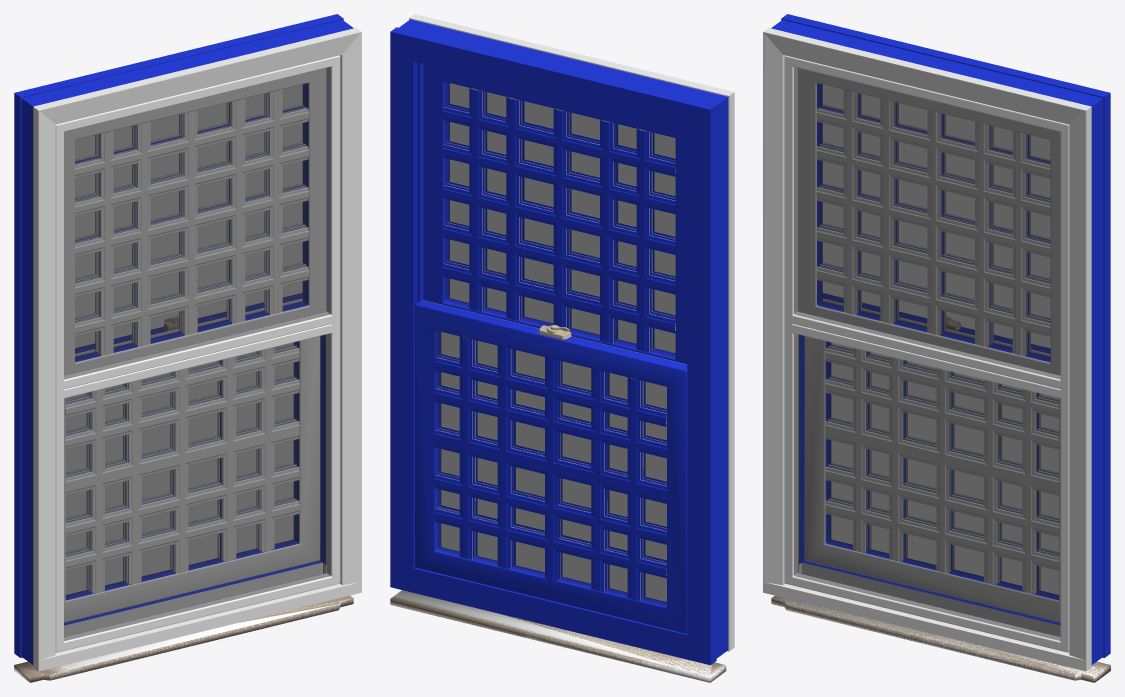
File: Lifestyle1.glb
3 views of the same model, side by side, from view 1: azimuth 30°, elevation 25°; view 2: azimuth 150°, elevation 25°; view 3: azimuth 330°, elevation 25° (orthographic).
Parts seen in each view (by area): view 1: frame3_full_glass, frame3_half_up_glass, frame3_half_down_glass, window1, frame1_glass, frame2_glass, frame1, frame2, frame3_full, sdl3_up, sdl4_up, sdl3_down (+15 smaller); view 2: window1, frame1_glass, frame2, frame2_glass, frame1, sdl3_down, sdl3_up, sdl4_up, sdl4_down, sdl5_down, sdl2_up, sdl5_up (+12 smaller); view 3: frame3_full_glass, frame3_half_up_glass, frame3_half_down_glass, window1, frame1_glass, frame2_glass, frame1, frame2, frame3_full, sdl4_up, frame3_half_up, sdl4_down (+14 smaller).
Part boxes in pixels (x1,y1,x2,y2): frame3_full_glass: (64, 67, 329, 640); frame3_half_up_glass: (64, 67, 330, 379); frame3_half_down_glass: (64, 334, 330, 640); window1: (14, 14, 361, 671); frame1_glass: (75, 84, 304, 358); frame2_glass: (66, 342, 295, 596); frame1: (64, 68, 326, 375); frame2: (64, 293, 320, 622); frame3_full: (55, 57, 340, 652); sdl3_up: (75, 99, 308, 346); sdl4_up: (75, 89, 308, 354); sdl3_down: (65, 358, 299, 584); window1: (390, 14, 734, 665); frame1_glass: (445, 82, 675, 356); frame2: (415, 300, 687, 633); frame2_glass: (436, 331, 666, 605); frame1: (423, 64, 687, 364); sdl3_down: (434, 346, 667, 591); sdl3_up: (443, 97, 675, 343); sdl4_up: (442, 88, 675, 351); sdl4_down: (433, 336, 666, 599); sdl5_down: (433, 337, 666, 600); sdl2_up: (442, 97, 675, 342); sdl5_up: (442, 88, 675, 352); frame3_full_glass: (794, 67, 1059, 640); frame3_half_up_glass: (794, 67, 1060, 378); frame3_half_down_glass: (794, 334, 1060, 640); window1: (763, 14, 1110, 671); frame1_glass: (821, 84, 1050, 358); frame2_glass: (829, 342, 1058, 596); frame1: (798, 68, 1060, 375); frame2: (804, 293, 1060, 622); frame3_full: (784, 57, 1069, 652); sdl4_up: (816, 90, 1050, 355); frame3_half_up: (784, 55, 1069, 390); sdl4_down: (825, 344, 1059, 593).
Size of the model in its own units: 0.5315 by 0.909 by 0.0703.
